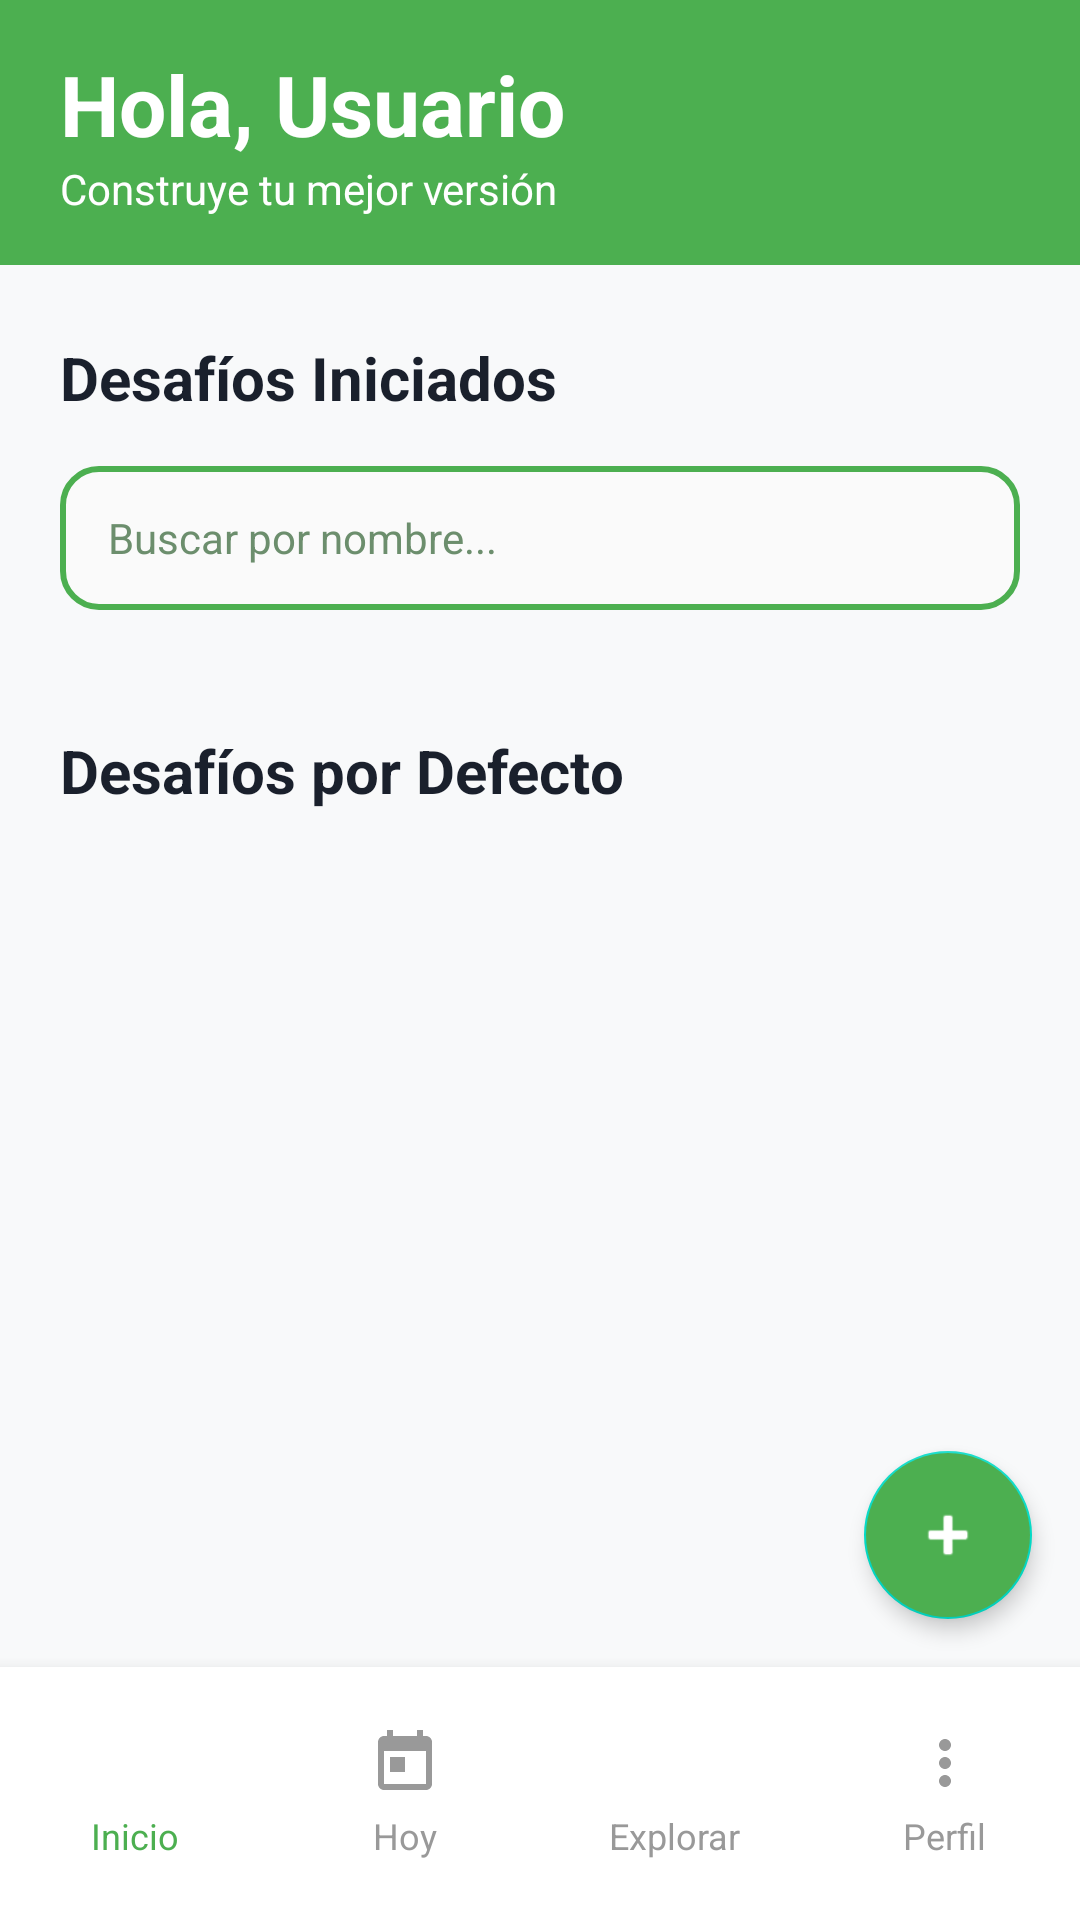

Screen size 1080px×1920px. Icon name, then its center in pixels as (x,y):
Añadir desafío: (948,1535)
